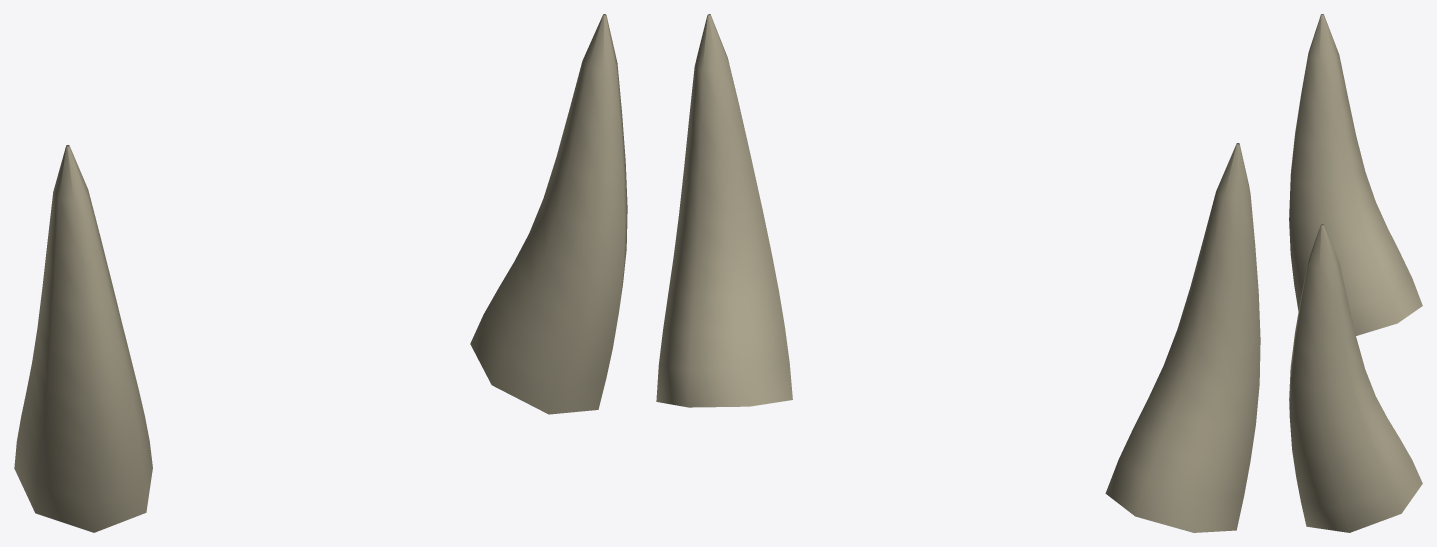
File: crocs_orque_lo.glb
3 views of the same model, side by side, from view 1: azimuth 30°, elevation 25°; view 2: azimuth 150°, elevation 25°; view 3: azimuth 270°, elevation 25° (orthographic). The views are drawn at different scales.
Parts seen in each view (by area): view 1: crocs_orque; view 2: crocs_orque; view 3: crocs_orque.
Part boxes in pixels (box(x1,y1,x2,y2)): crocs_orque: box(14, 14, 627, 532); crocs_orque: box(656, 14, 1260, 532); crocs_orque: box(1289, 14, 1422, 532).
Bounding box in the file's own units: 0.0485 × 0.0308 × 0.0121.
